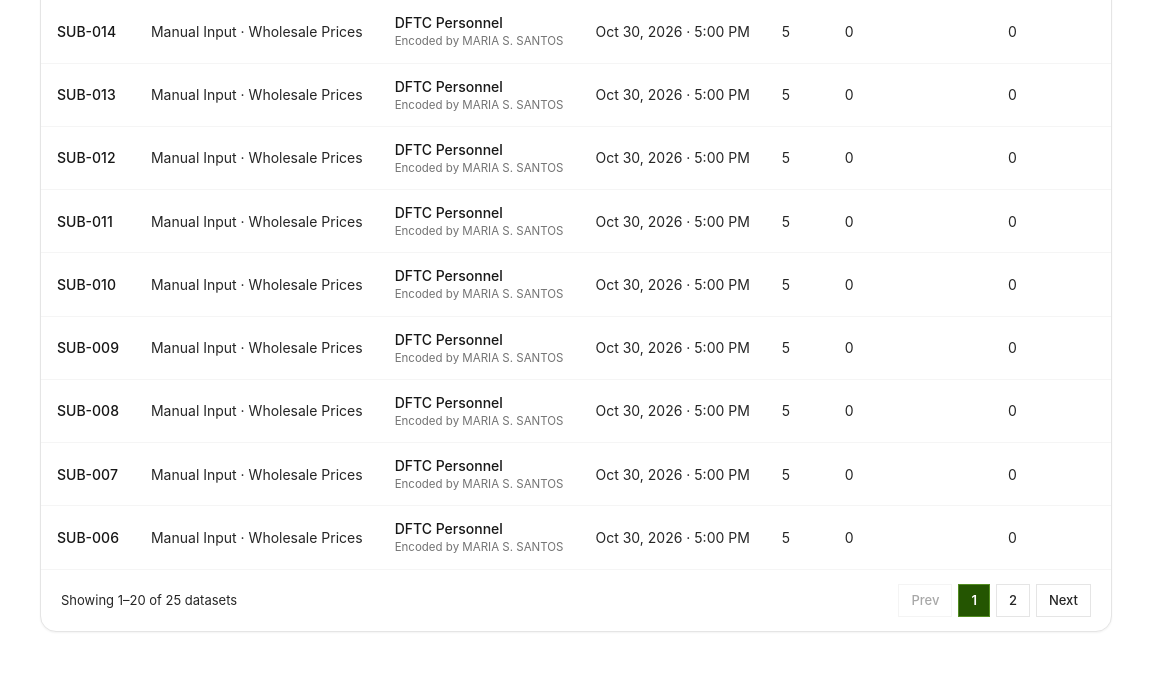
DFTCSubmissions error and pagination safety › clamps pagination back to a valid page when the list shrinks
(page scrolled)
expect the text "Showing 1–20 of 25 datasets" is shown: met, box [61,590,237,611]
Click the button "2": point(1013, 600) [996,584,1030,617]
(page scrolled)
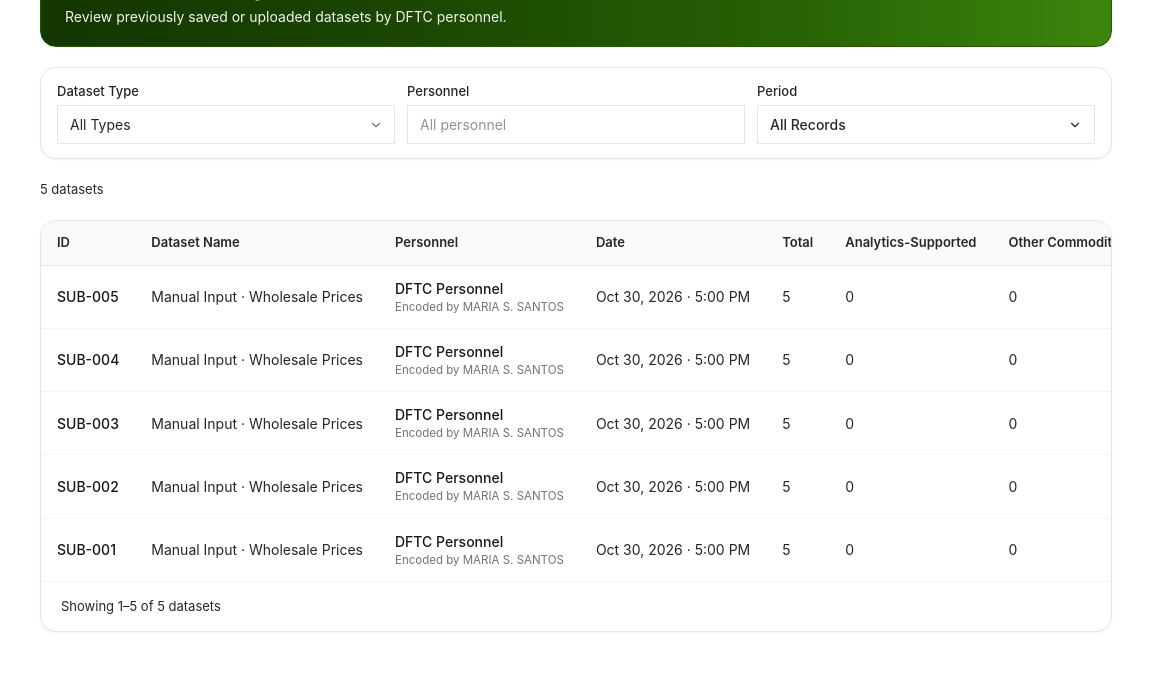
expect the text "Showing 1–5 of 5 datasets" is shown: met, box [61,596,221,617]
expect the text "SUB-005" is shown: met, box [41,265,135,328]
